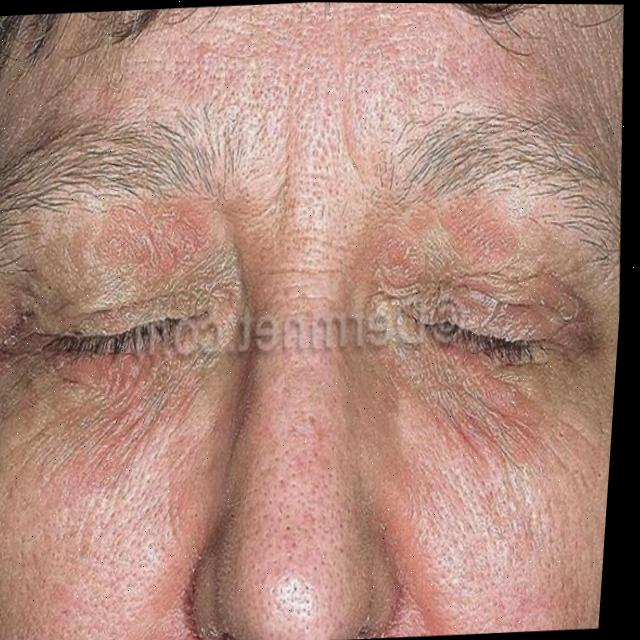Eczema: (0, 195, 612, 640)
